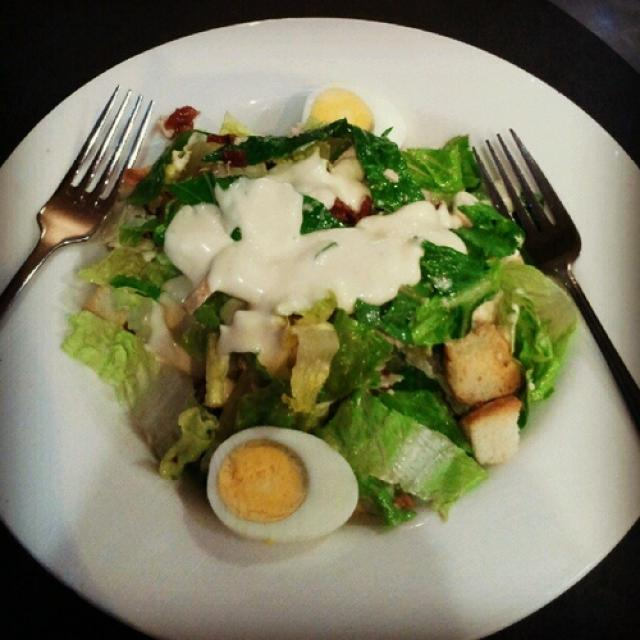蔬菜料理: (64, 64, 581, 562)
